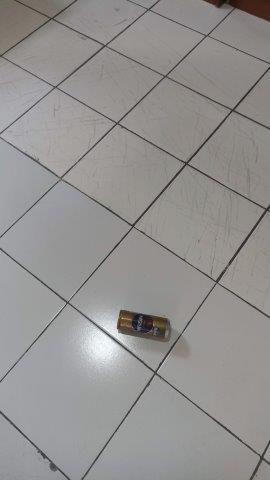kaleng: (117, 310, 171, 340)
